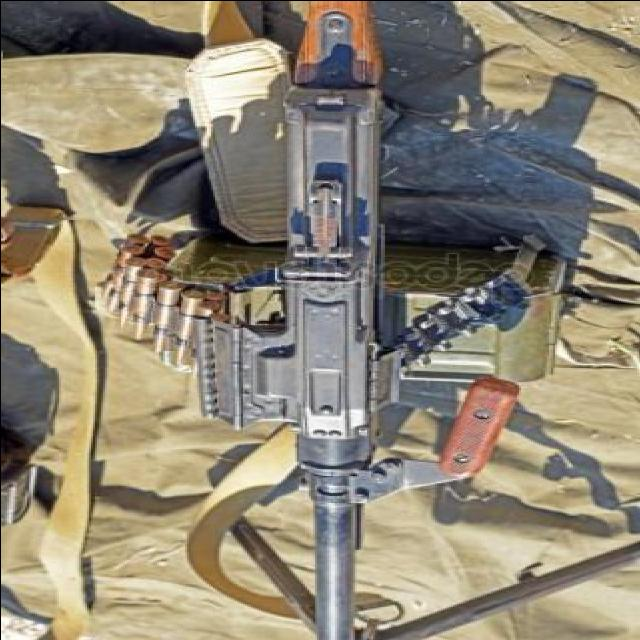rifle: (133, 15, 593, 640)
